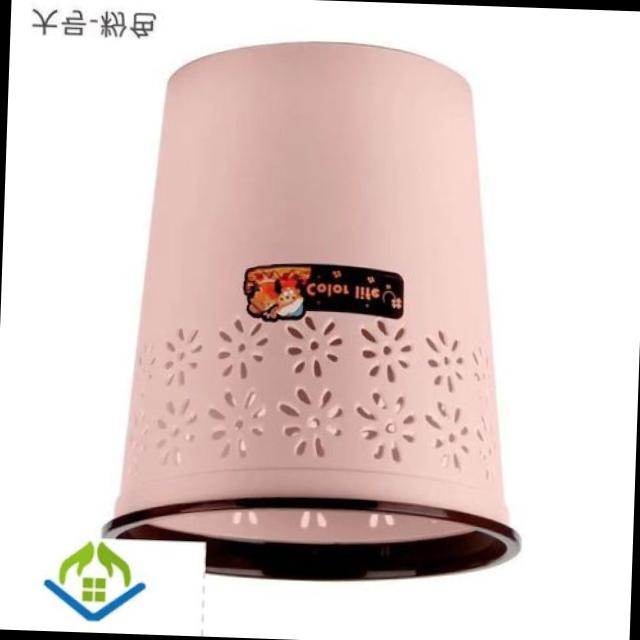dustbin: (91, 30, 546, 602)
